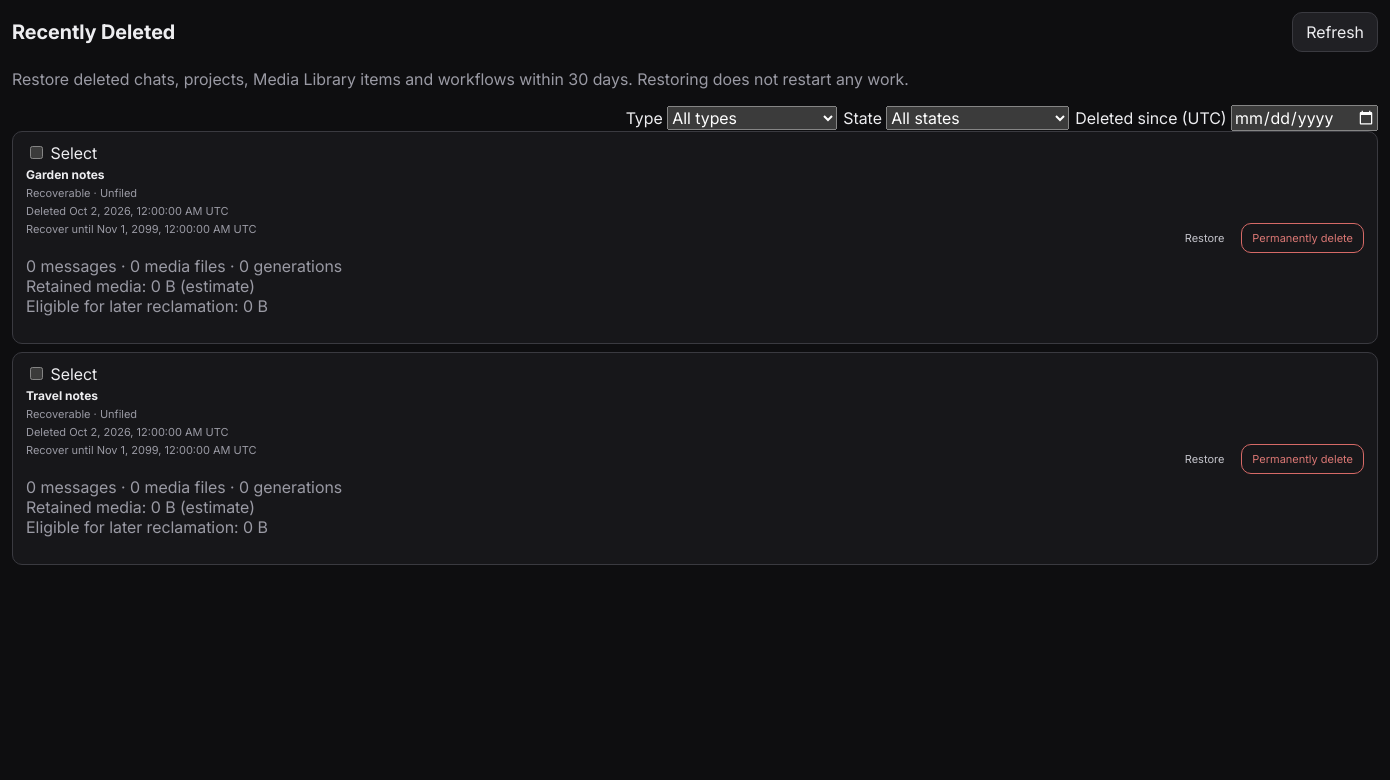
Test: offers a bounded multi-item selection without submitting individual recovery commands
Click the checkbox named "Select Garden notes" at [36, 152], box 30,146 -> 43,159
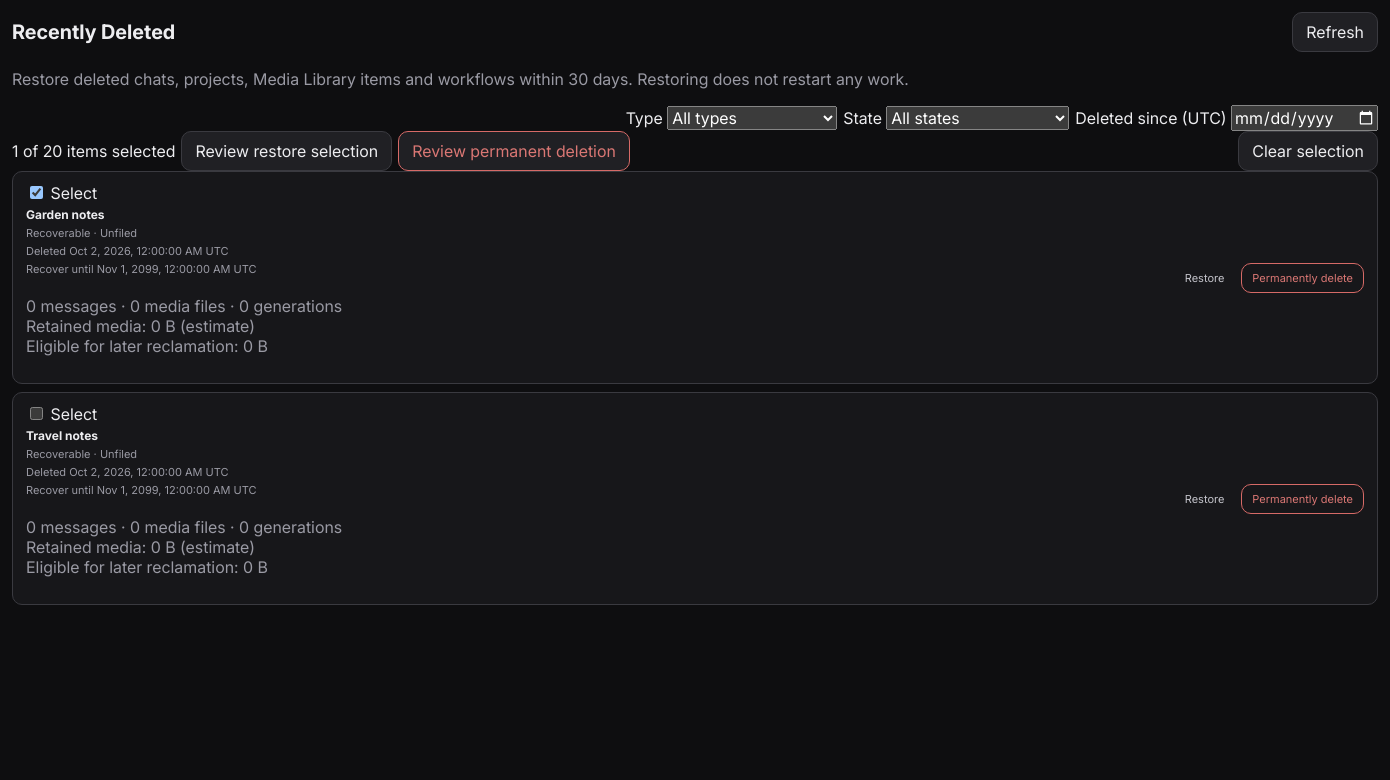
Click the checkbox named "Select Travel notes" at [36, 414], box 30,407 -> 43,420
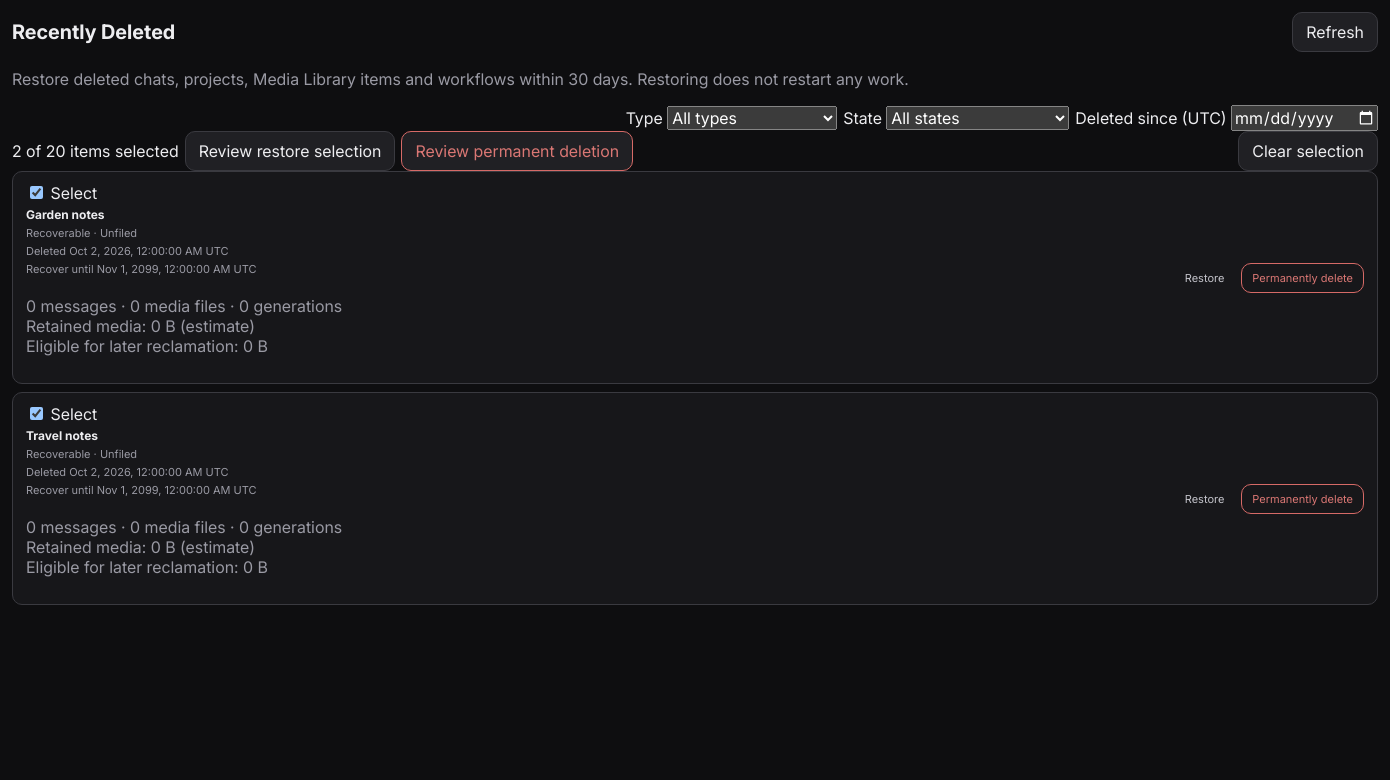
Check: the button "Review restore selection" is shown, box 185,131 -> 396,171
Check: the button "Review permanent deletion" is shown, box 402,131 -> 633,171
Check: the text "2 of 20 items selected" is shown, box 12,141 -> 179,161
